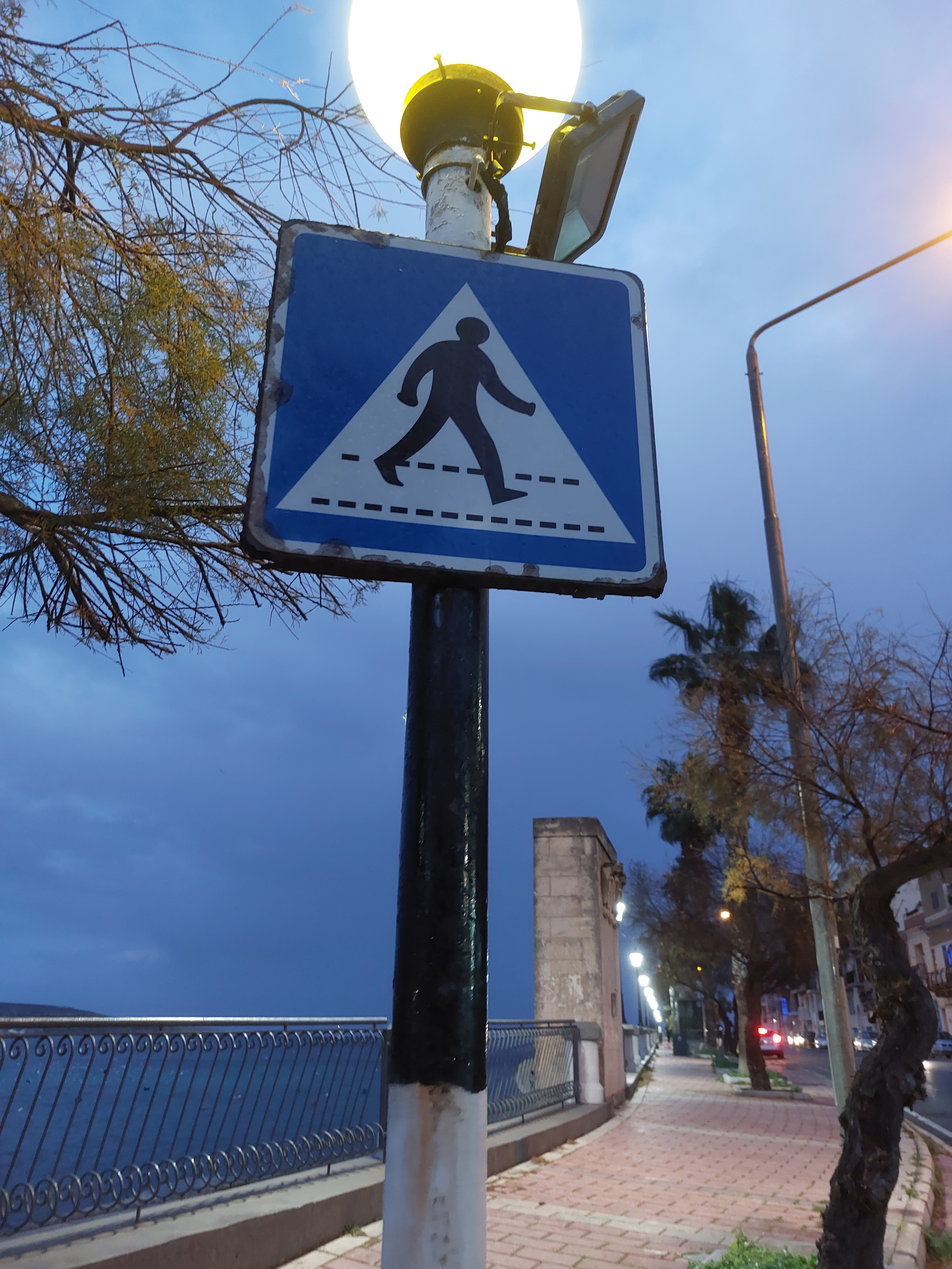Pedestrian Crossing: (240, 219, 668, 599)
